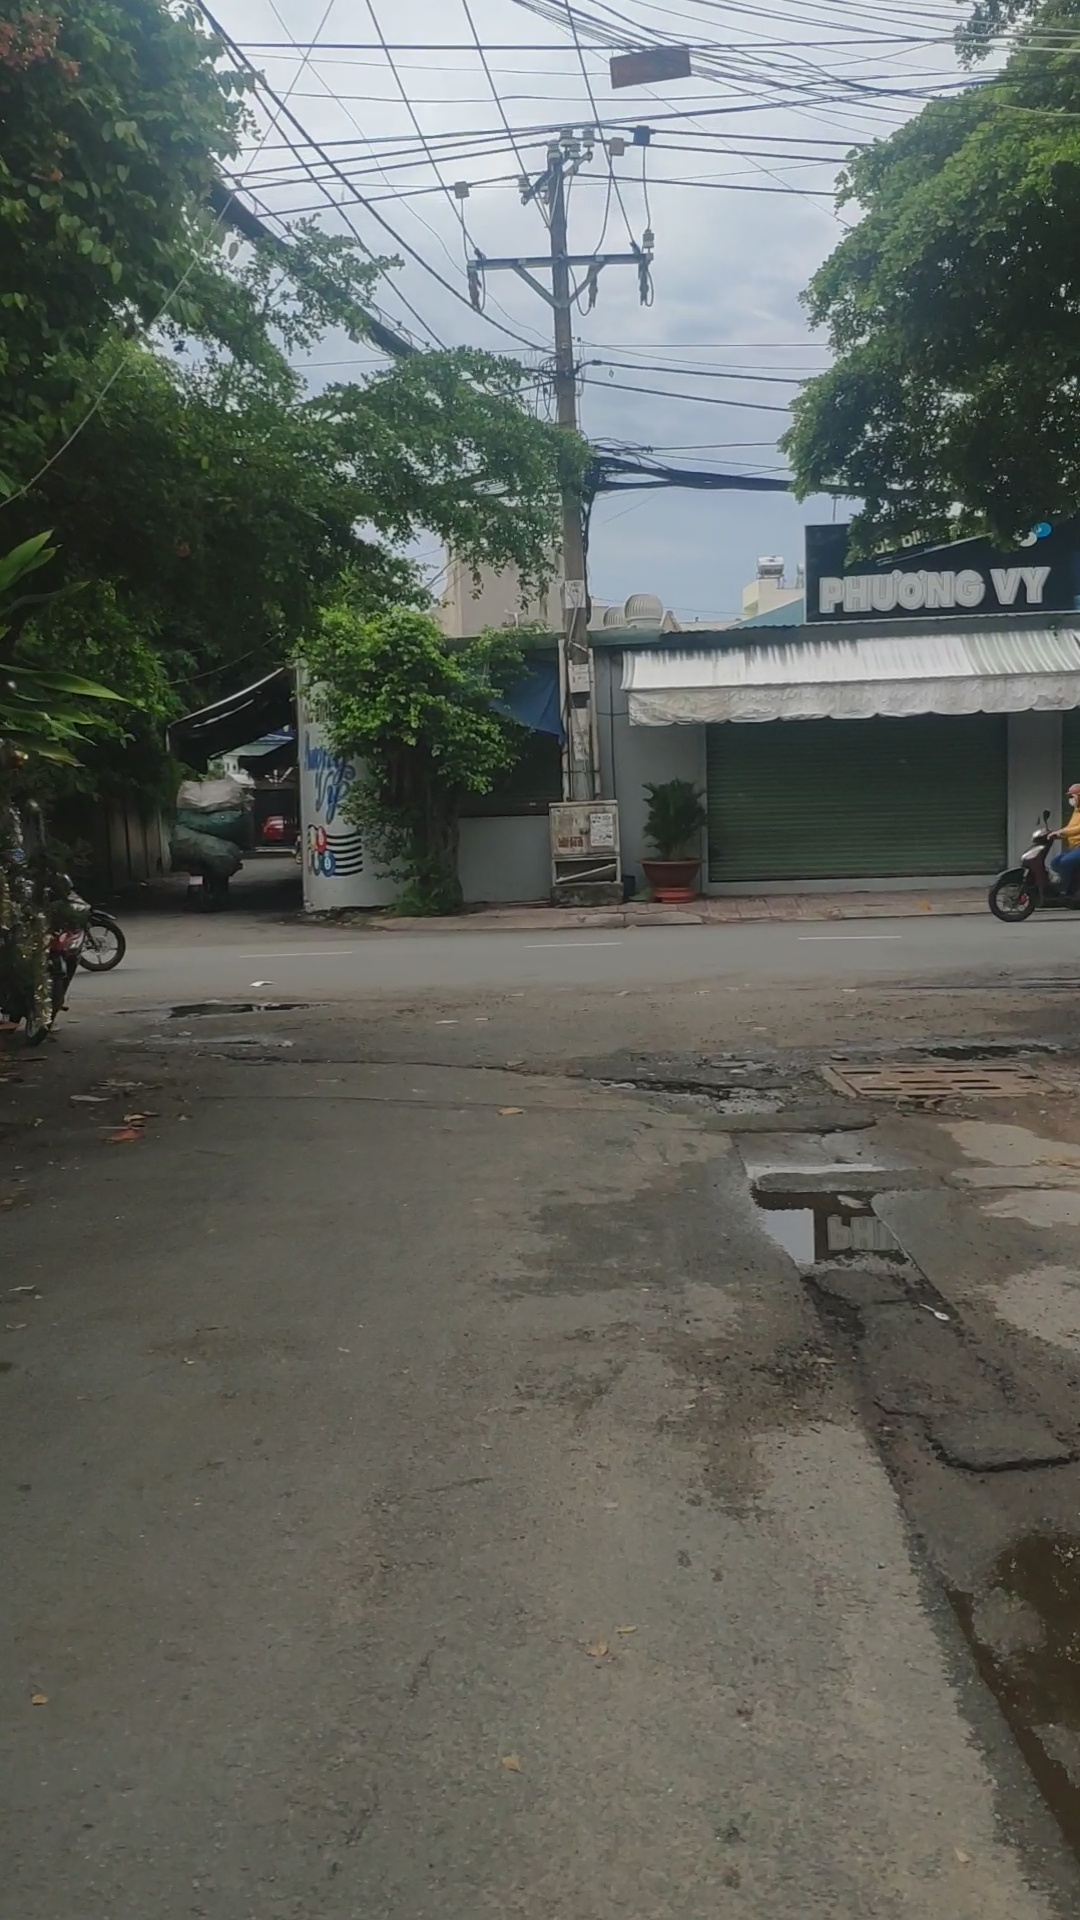hole: (738, 1178, 926, 1280), (578, 1065, 808, 1121), (731, 1114, 897, 1179), (104, 992, 332, 1029), (902, 1036, 1065, 1064)
